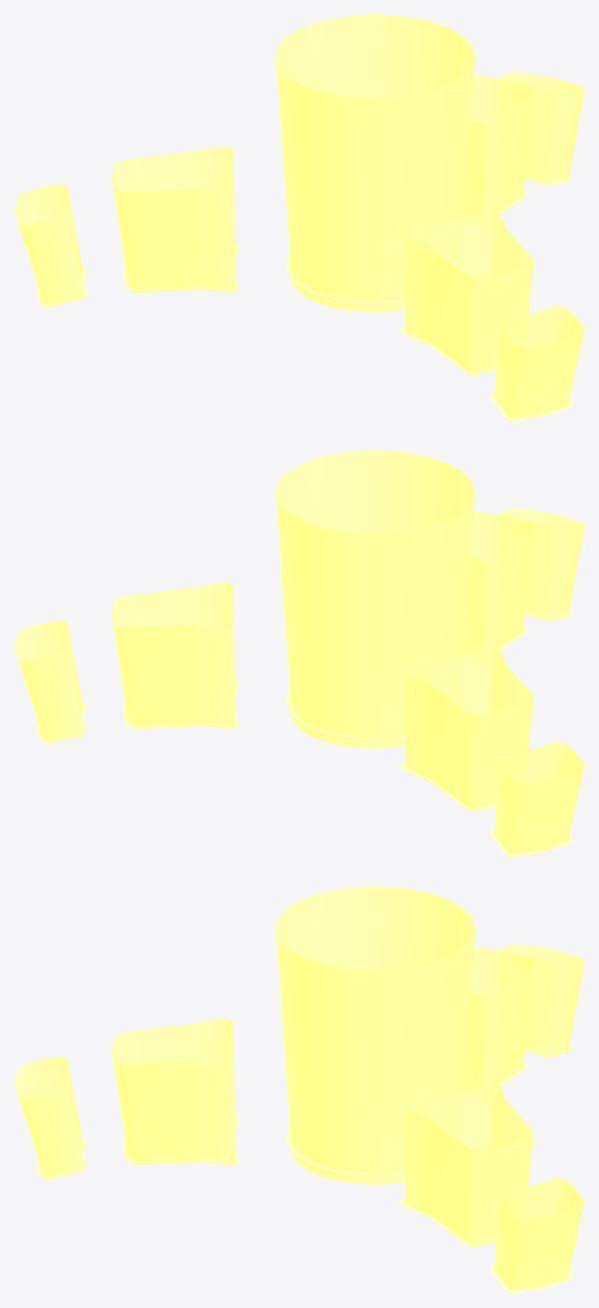
Rendered from BoostPad_Large_Glow.glb.
The picture shows the model from 3 angles, top to bottom: view 1: azimuth 30°, elevation 25°; view 2: azimuth 150°, elevation 25°; view 3: azimuth 270°, elevation 25°; orthographic projection.
Visible parts, largest first — view 1: Active_Glow_Overlay.001; view 2: Active_Glow_Overlay.001; view 3: Active_Glow_Overlay.001.
Part boxes in pixels (x1,y1,x2,y2): Active_Glow_Overlay.001: (14,14,584,421); Active_Glow_Overlay.001: (14,450,584,857); Active_Glow_Overlay.001: (14,886,584,1293).
Size of the model in its own units: 1.62 by 0.6545 by 1.42.
